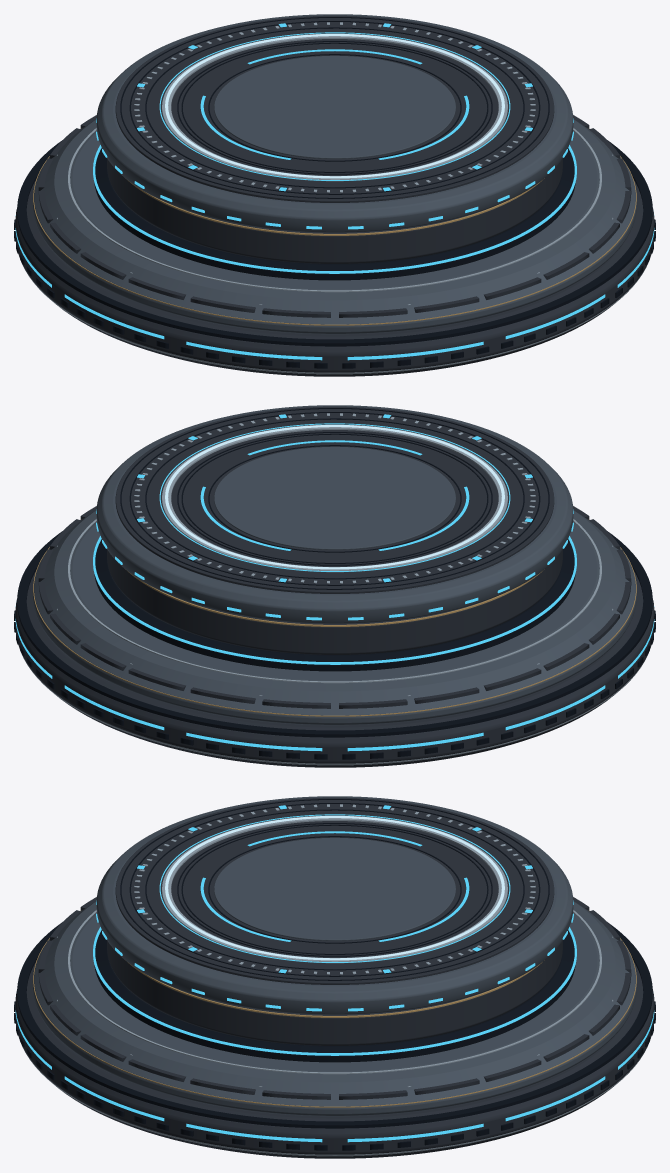
The model's file is Sockel_oben_web.glb.
The picture shows the model from 3 angles, top to bottom: view 1: azimuth 30°, elevation 25°; view 2: azimuth 150°, elevation 25°; view 3: azimuth 270°, elevation 25°; orthographic projection.
Visible parts, largest first — view 1: abschluss-geometry; view 2: abschluss-geometry; view 3: abschluss-geometry.
Part boxes in pixels (left/top/right/bottom): abschluss-geometry: left=14, top=14, right=655, bottom=376; abschluss-geometry: left=14, top=405, right=655, bottom=767; abschluss-geometry: left=14, top=796, right=655, bottom=1158.
Size of the model in its own units: 7.43 by 1.8 by 7.43.
